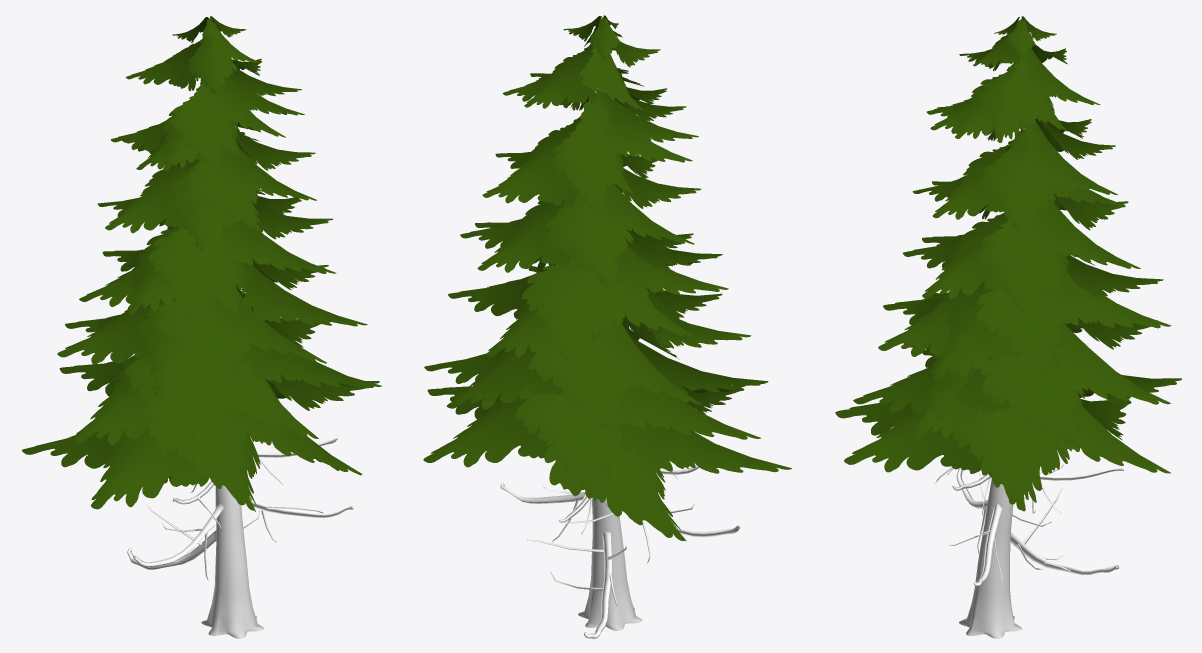
File: pine-4.glb
3 views of the same model, side by side, from view 1: azimuth 30°, elevation 25°; view 2: azimuth 150°, elevation 25°; view 3: azimuth 270°, elevation 25° (orthographic). The views are drawn at different scales.
Parts seen in each view (by area): view 1: Pine_4; view 2: Pine_4; view 3: Pine_4.
Part boxes in pixels (bbox=[...]): Pine_4: bbox=[22, 16, 381, 638]; Pine_4: bbox=[423, 15, 791, 638]; Pine_4: bbox=[835, 16, 1181, 638].
Bounding box in the file's own units: 5.8 × 10 × 5.37.
2 materials, 1 textured.
